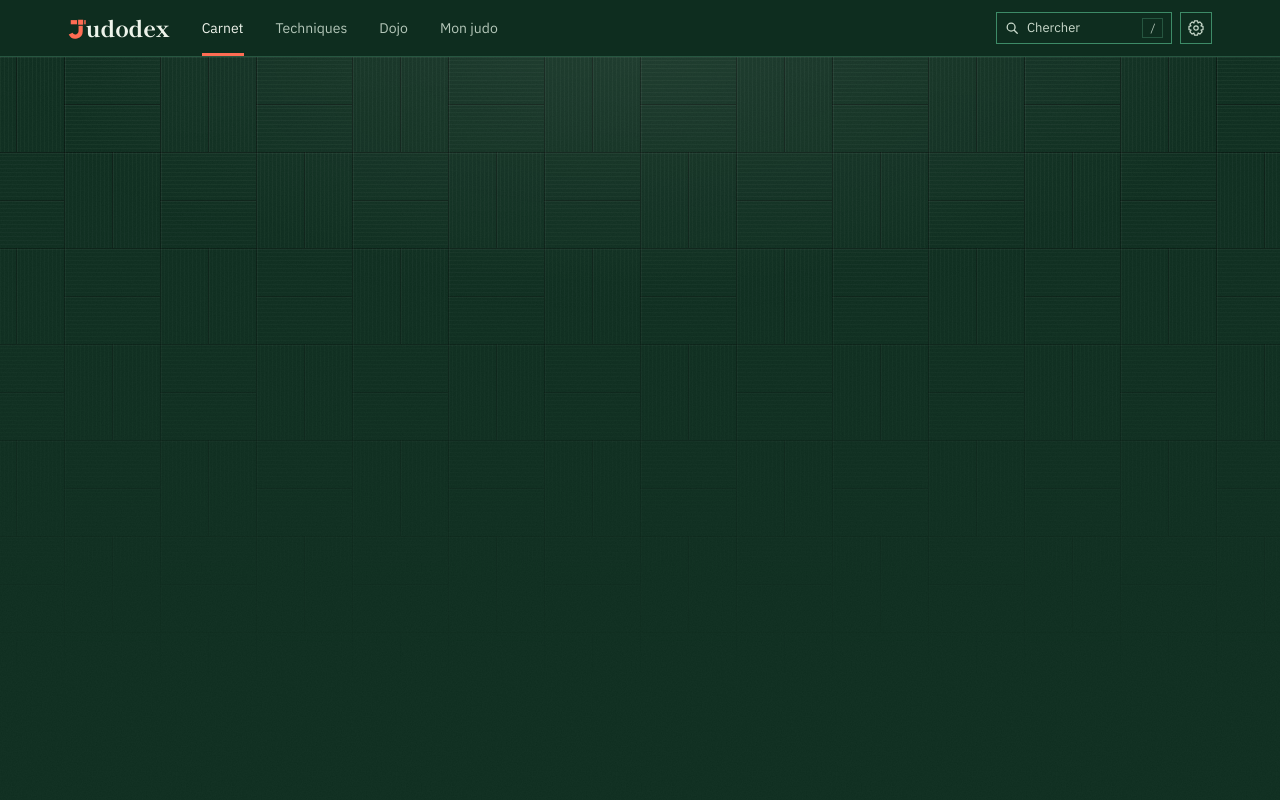
Test case: parcours applicatif › propose une révision une fois une technique en cours
This screenshot has width=1280, height=800.
Click the link "Dojo" at [394, 28], box [379,18,408,36]
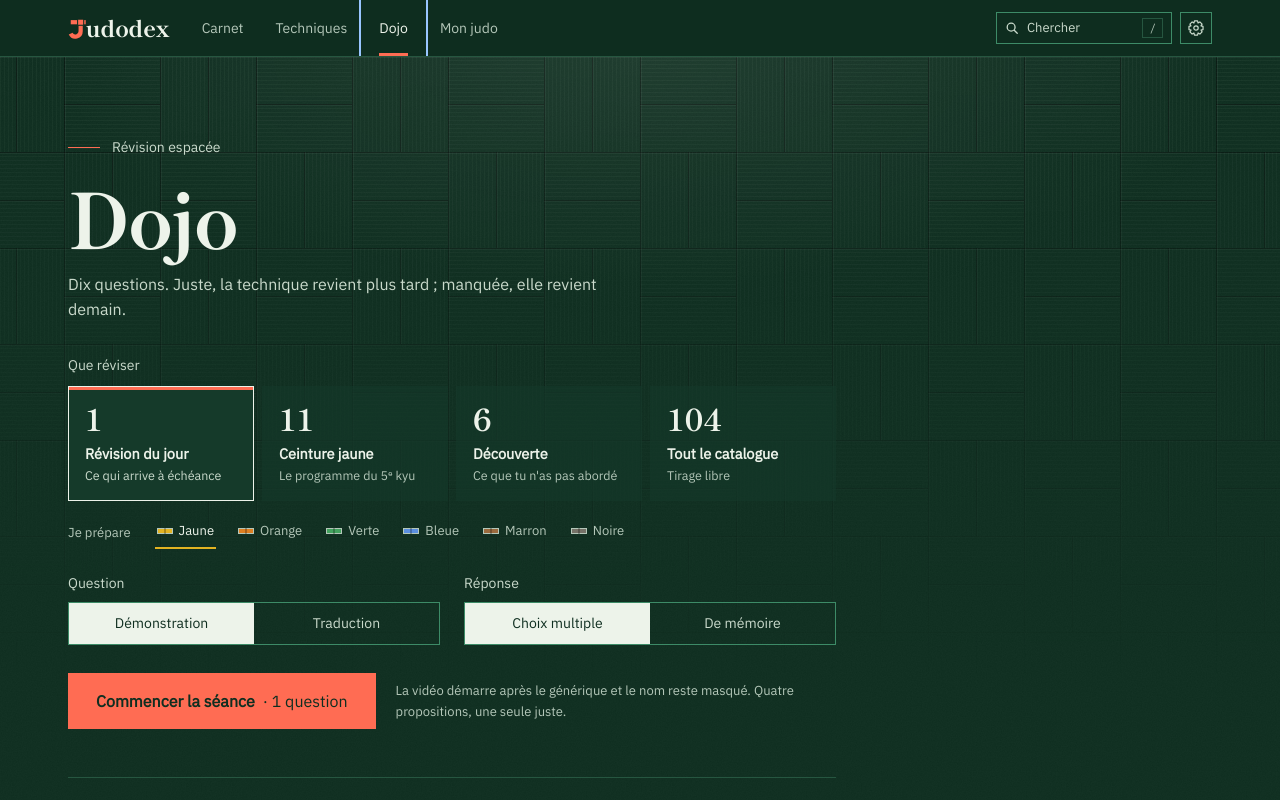
Result: the heading "Dojo" is shown at [68,161,238,271]
Result: the button "Commencer la séance · 1 question" is shown at [68,673,376,729]
